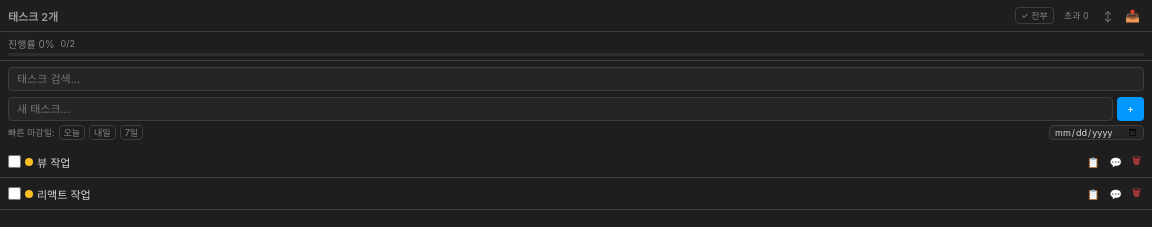
Test: TasksPanel › 검색어 입력 시 태스크가 필터링된다
Type "리액트" into the field with placeholder "태스크 검색..." at (576, 79), box [8, 67, 1144, 91]
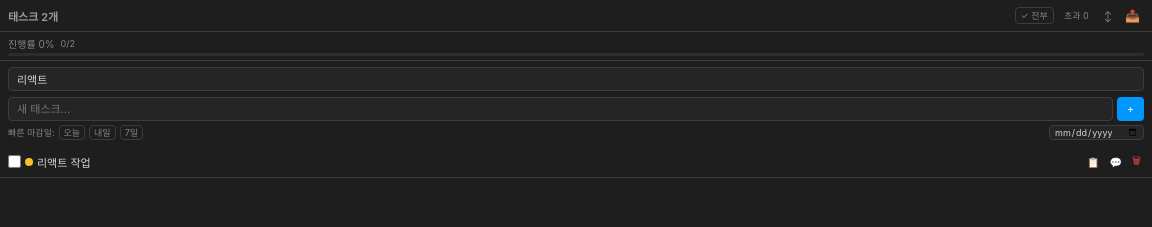
Expected: the text "리액트 작업" is shown, [37, 156, 91, 170]
Expected: the text "뷰 작업" is gone
